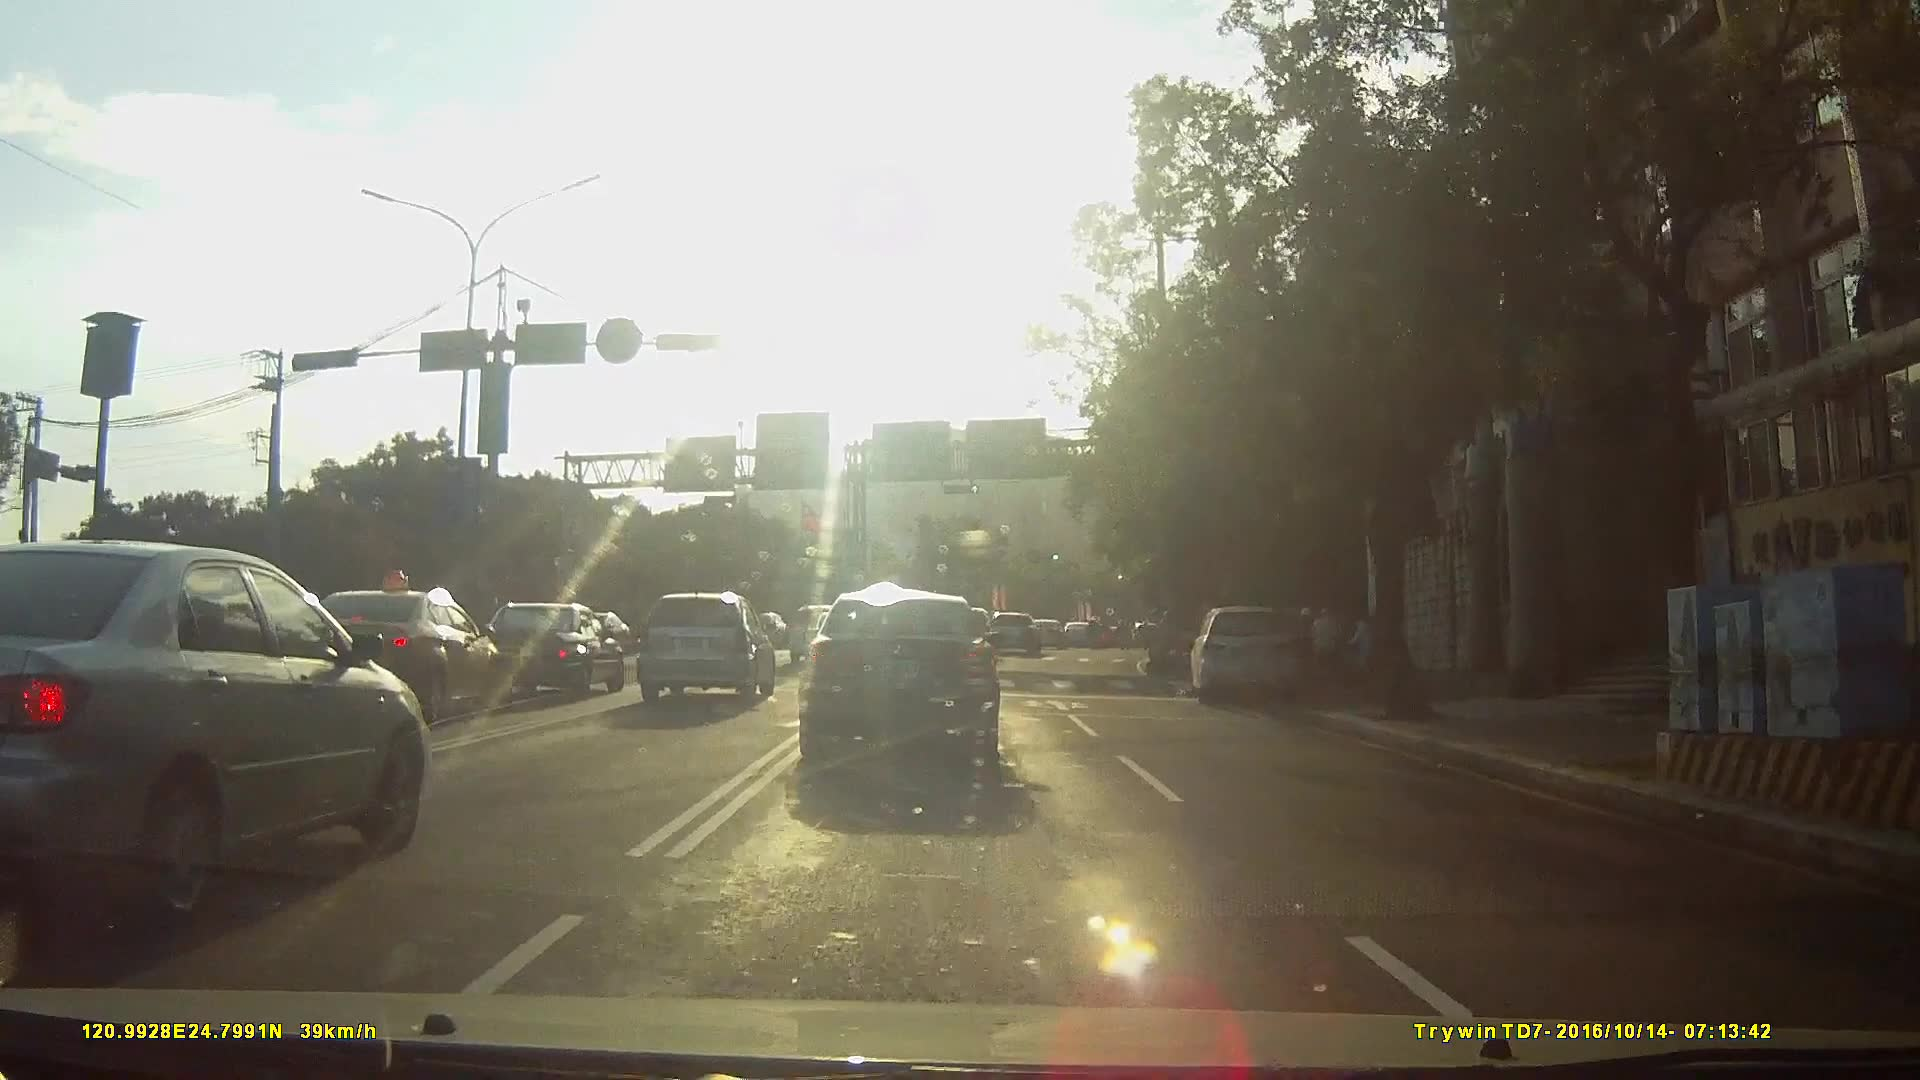pedestrian: (1308, 604, 1350, 668), (1348, 614, 1384, 679)
rider: (1146, 609, 1199, 682)
vehicle: (0, 534, 431, 928), (799, 594, 1022, 790), (267, 585, 484, 720), (633, 588, 776, 703), (455, 599, 617, 699), (1186, 601, 1321, 706), (988, 608, 1046, 654), (1035, 616, 1074, 648), (1064, 616, 1104, 644)
